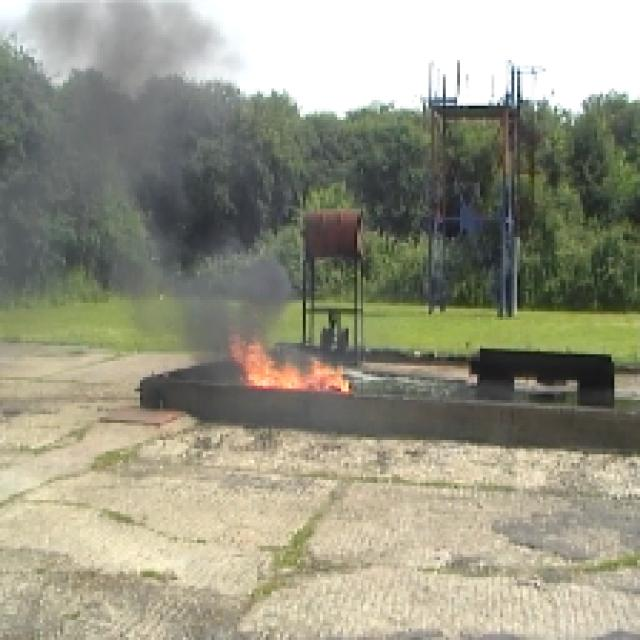fire: (231, 337, 359, 399)
smoke: (14, 4, 288, 329)
